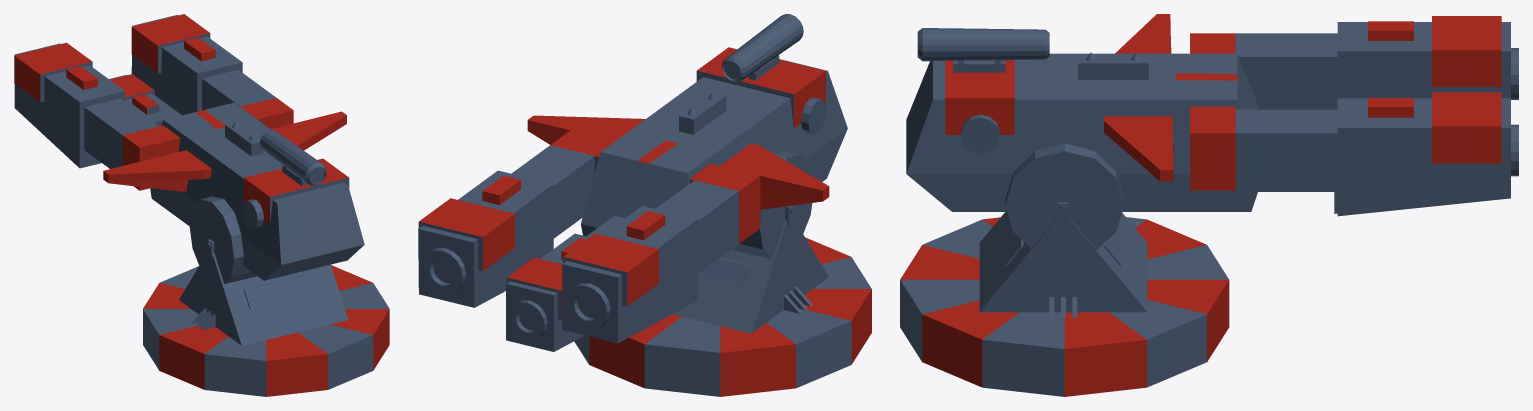
The model's file is MachineGun.fbx.
3 views of the same model, side by side, from view 1: azimuth 30°, elevation 25°; view 2: azimuth 150°, elevation 25°; view 3: azimuth 270°, elevation 25° (orthographic). The views are drawn at different scales.
Visible parts, largest first — view 1: senjata 5; view 2: senjata 5; view 3: senjata 5.
Boxes of the visible parts, x1,y1,x2,y2 form: senjata 5: (14,14,389,396); senjata 5: (418,14,871,396); senjata 5: (900,14,1518,396).
Bounding box in the file's own units: 300 × 265 × 503.
